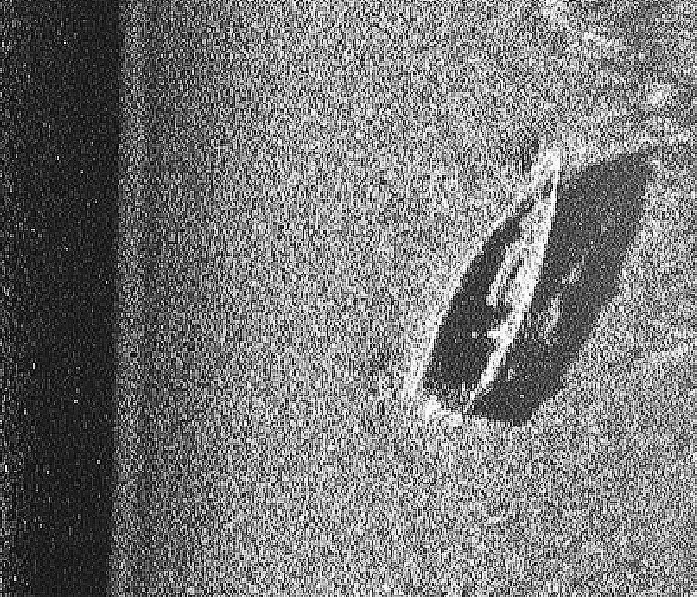ship: (409, 149, 566, 423)
